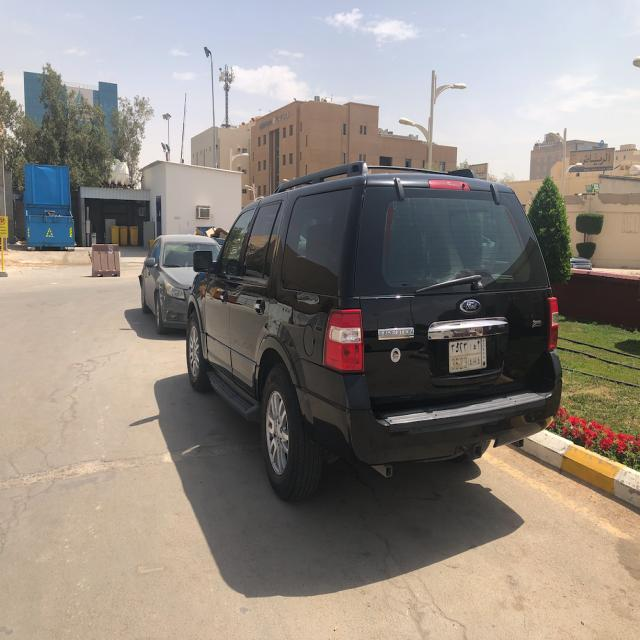license_plate: (449, 338, 486, 371)
